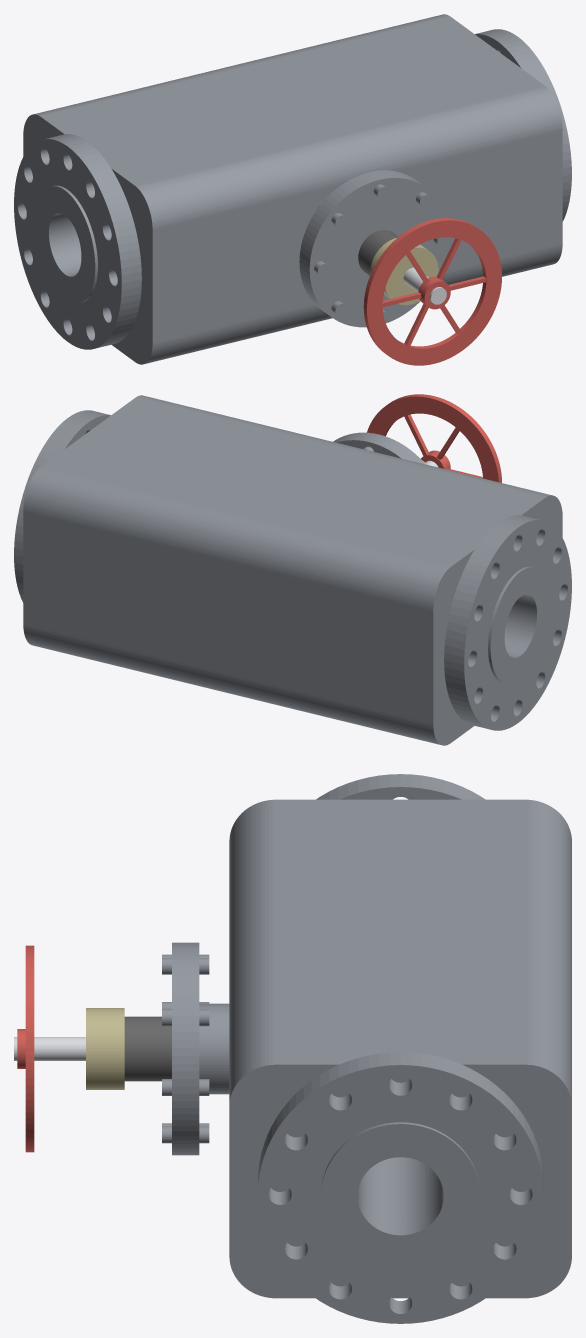
Rendered from WH-GATEVALVE.glb.
3 views of the same model, one above another, from view 1: azimuth 30°, elevation 25°; view 2: azimuth 150°, elevation 25°; view 3: azimuth 270°, elevation 25° (orthographic). The views are drawn at different scales.
Parts seen in each view (by area): view 1: WH-GATEVALVE-BODY, WH-GATEVALVE-FLANGE-IN, WH-GATEVALVE-BONNET, WH-GATEVALVE-HANDWHEEL, WH-GATEVALVE-FLANGE-OUT, WH-GATEVALVE-BEARING, WH-GATEVALVE-PACKING, WH-GATEVALVE-STEM; view 2: WH-GATEVALVE-BODY, WH-GATEVALVE-FLANGE-IN, WH-GATEVALVE-HANDWHEEL, WH-GATEVALVE-FLANGE-OUT, WH-GATEVALVE-BONNET; view 3: WH-GATEVALVE-BODY, WH-GATEVALVE-FLANGE-OUT, WH-GATEVALVE-BONNET, WH-GATEVALVE-BEARING, WH-GATEVALVE-FLANGE-IN, WH-GATEVALVE-PACKING, WH-GATEVALVE-HANDWHEEL, WH-GATEVALVE-STEM.
Boxes of the visible parts, bbox=[...] form: WH-GATEVALVE-BODY: bbox=[23, 14, 562, 364]; WH-GATEVALVE-FLANGE-IN: bbox=[14, 134, 141, 349]; WH-GATEVALVE-BONNET: bbox=[299, 170, 448, 327]; WH-GATEVALVE-HANDWHEEL: bbox=[363, 218, 501, 365]; WH-GATEVALVE-FLANGE-OUT: bbox=[475, 29, 571, 221]; WH-GATEVALVE-BEARING: bbox=[370, 238, 438, 305]; WH-GATEVALVE-PACKING: bbox=[358, 230, 398, 275]; WH-GATEVALVE-STEM: bbox=[403, 267, 446, 304]; WH-GATEVALVE-BODY: bbox=[23, 395, 562, 745]; WH-GATEVALVE-FLANGE-IN: bbox=[444, 515, 571, 730]; WH-GATEVALVE-HANDWHEEL: bbox=[367, 394, 501, 482]; WH-GATEVALVE-FLANGE-OUT: bbox=[14, 410, 110, 602]; WH-GATEVALVE-BONNET: bbox=[333, 432, 424, 464]; WH-GATEVALVE-BODY: bbox=[199, 799, 571, 1298]; WH-GATEVALVE-FLANGE-OUT: bbox=[258, 1052, 543, 1323]; WH-GATEVALVE-BONNET: bbox=[162, 942, 209, 1155]; WH-GATEVALVE-BEARING: bbox=[86, 1008, 124, 1089]; WH-GATEVALVE-FLANGE-IN: bbox=[316, 774, 485, 799]; WH-GATEVALVE-PACKING: bbox=[124, 1016, 171, 1081]; WH-GATEVALVE-HANDWHEEL: bbox=[17, 945, 34, 1152]; WH-GATEVALVE-STEM: bbox=[14, 1037, 85, 1060].
Bounding box in the file's own units: 1.05 × 0.4315 × 0.843.
